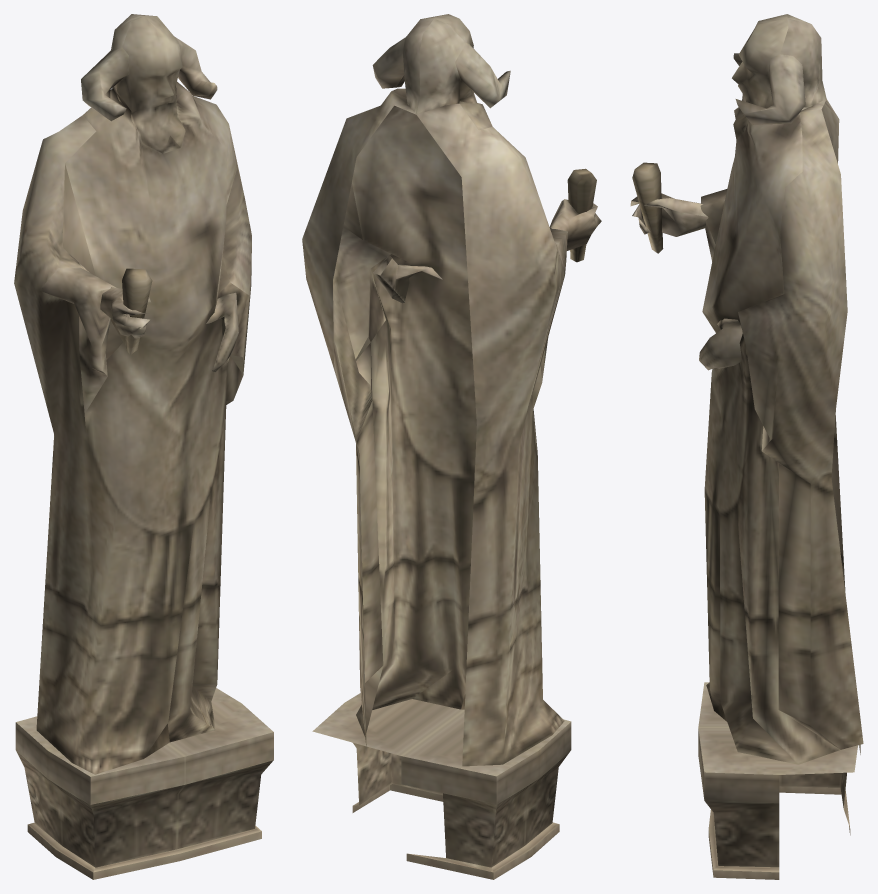
File: SM_EN_2005_diaoxiang01.FBX
3 views of the same model, side by side, from view 1: azimuth 30°, elevation 25°; view 2: azimuth 150°, elevation 25°; view 3: azimuth 270°, elevation 25° (orthographic).
Parts seen in each view (by area): view 1: SM_EN_2005_diaoxiang01; view 2: SM_EN_2005_diaoxiang01; view 3: SM_EN_2005_diaoxiang01.
Part boxes in pixels (left/top/right/bottom): SM_EN_2005_diaoxiang01: left=14, top=14, right=273, bottom=879; SM_EN_2005_diaoxiang01: left=302, top=14, right=601, bottom=879; SM_EN_2005_diaoxiang01: left=630, top=14, right=863, bottom=879.
Bounding box in the file's own units: 48.56 × 159 × 41.02.
